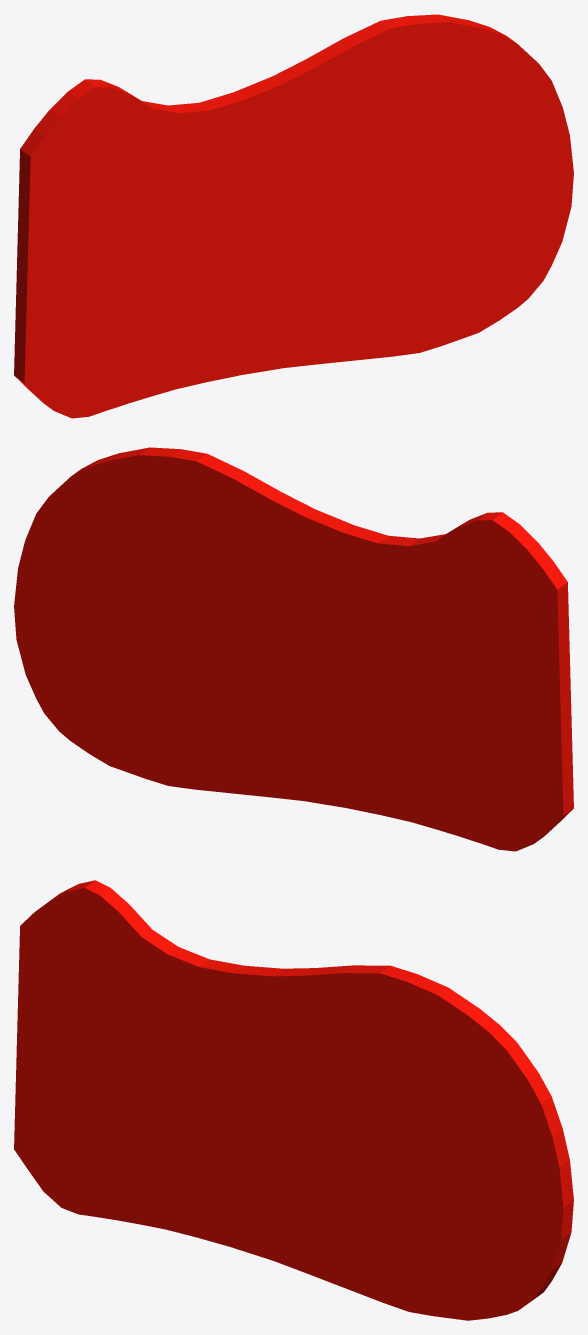
File: left_foot.glb
3 views of the same model, one above another, from view 1: azimuth 30°, elevation 25°; view 2: azimuth 150°, elevation 25°; view 3: azimuth 330°, elevation 25° (orthographic).
Visible parts, largest first — view 1: LeftFoot; view 2: LeftFoot; view 3: LeftFoot.
Part boxes in pixels (box(x1,y1,x2,y2)): LeftFoot: box(14, 14, 573, 418); LeftFoot: box(14, 447, 573, 851); LeftFoot: box(14, 880, 573, 1320).
Size of the model in its own units: 0.1508 by 0.0905 by 0.005.
